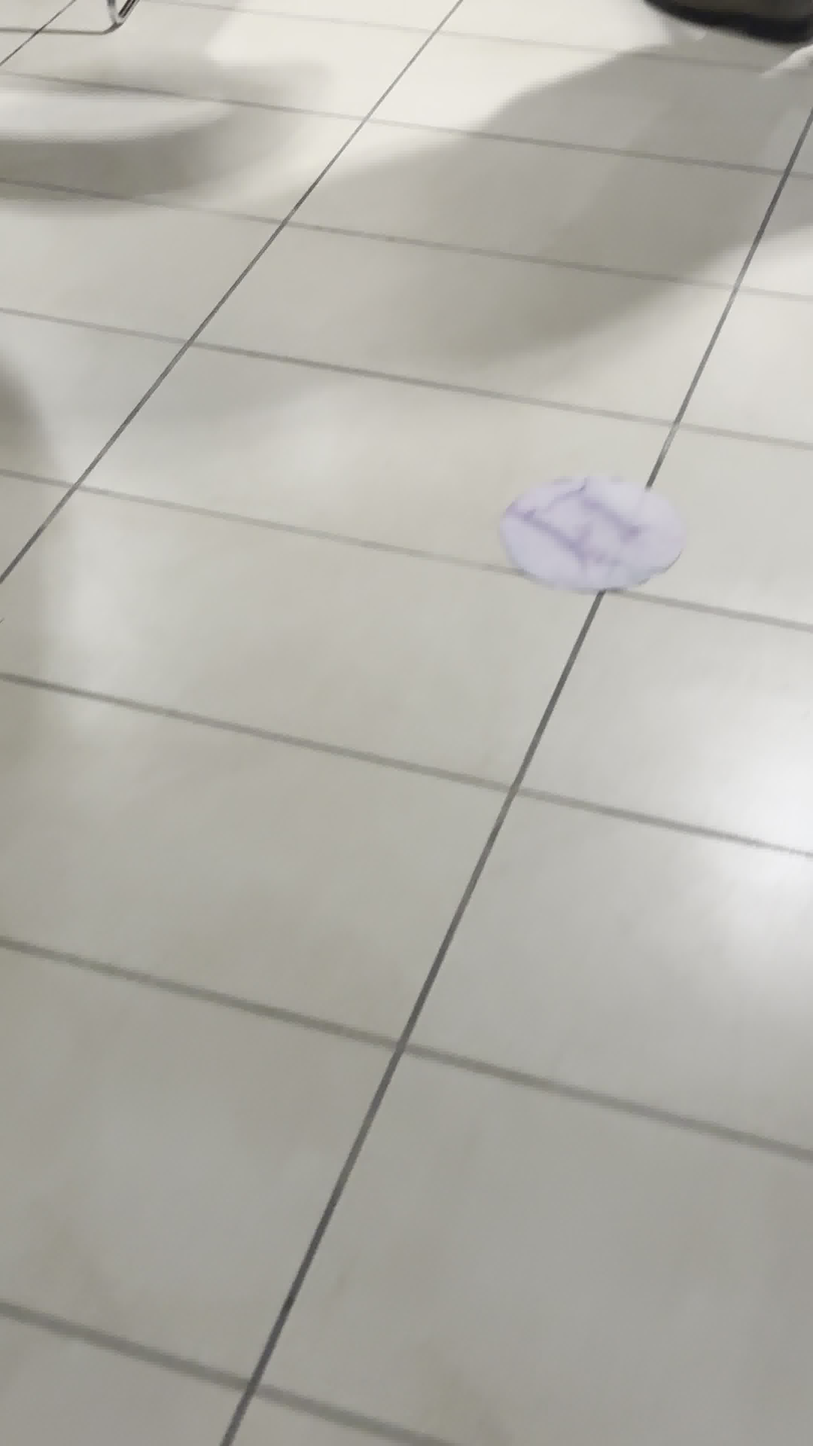Target: (500, 476, 685, 589)
